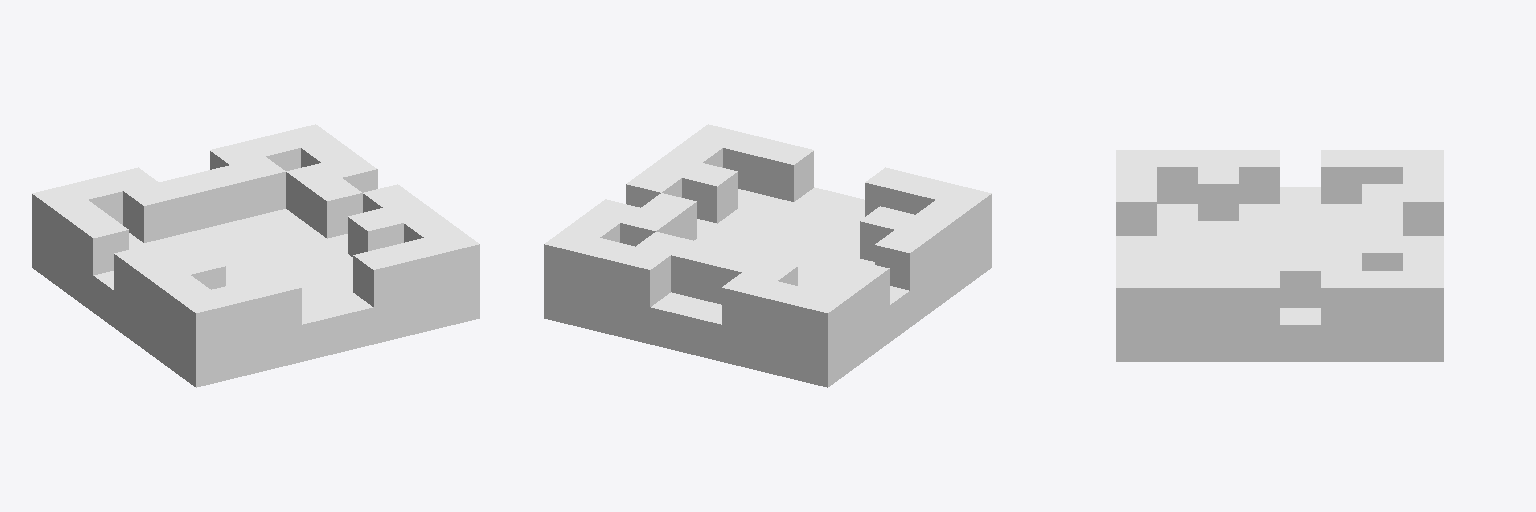
File: GreenCorall4.obj
The picture shows the model from 3 angles: view 1: azimuth 30°, elevation 25°; view 2: azimuth 150°, elevation 25°; view 3: azimuth 270°, elevation 25°; orthographic projection.
Visible parts, largest first — view 1: object 1; view 2: object 1; view 3: object 1.
Part boxes in pixels (left/top/right/bottom): object 1: left=32, top=124, right=479, bottom=387; object 1: left=544, top=124, right=991, bottom=387; object 1: left=1116, top=150, right=1443, bottom=361.
Size of the model in its own units: 0.8 by 0.2 by 0.8.